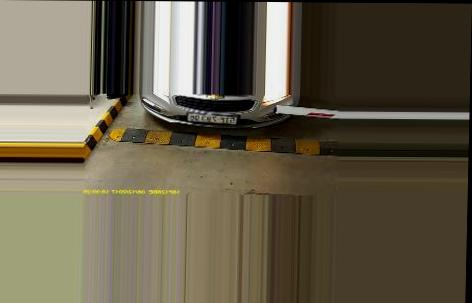License_Plate: (185, 111, 241, 126)
